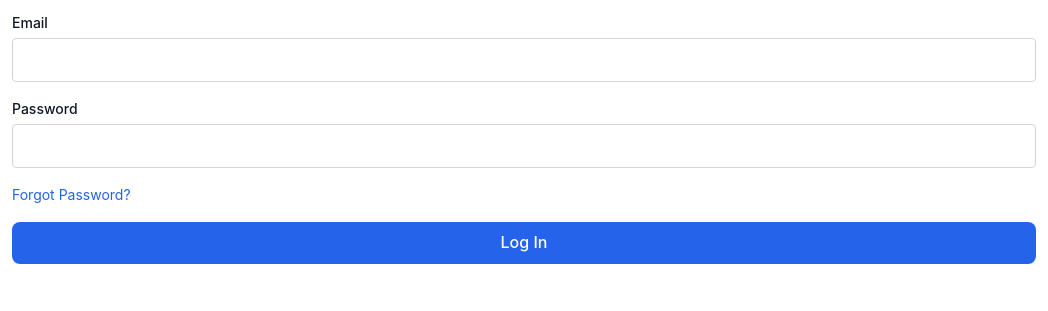
Test: <LoginForm /> › when submitted with an empty password › should show a password-required error
Type "traveler@example.com" into the field labelled "Email". click: (524, 60)
box: [12,38,1036,82]
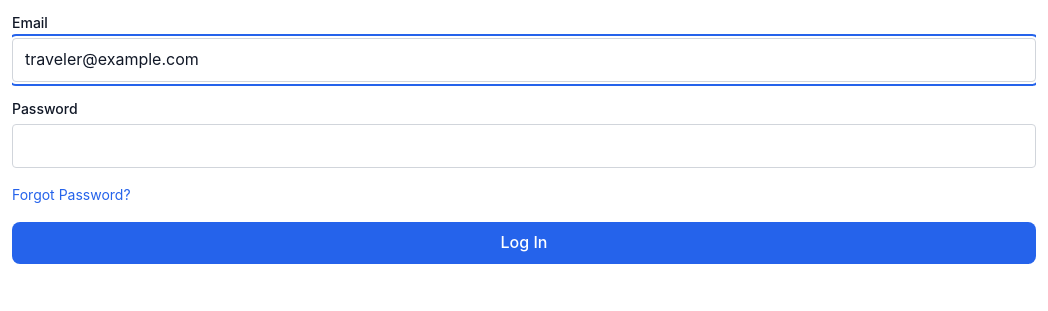
Click the button "Log In". click: (524, 243)
box: [12,222,1036,264]
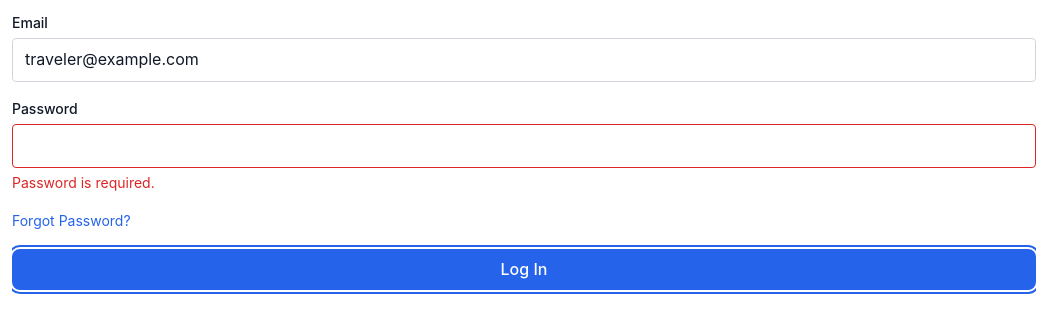
Expected: the text "Password is required." is shown, [12,174,155,191]
